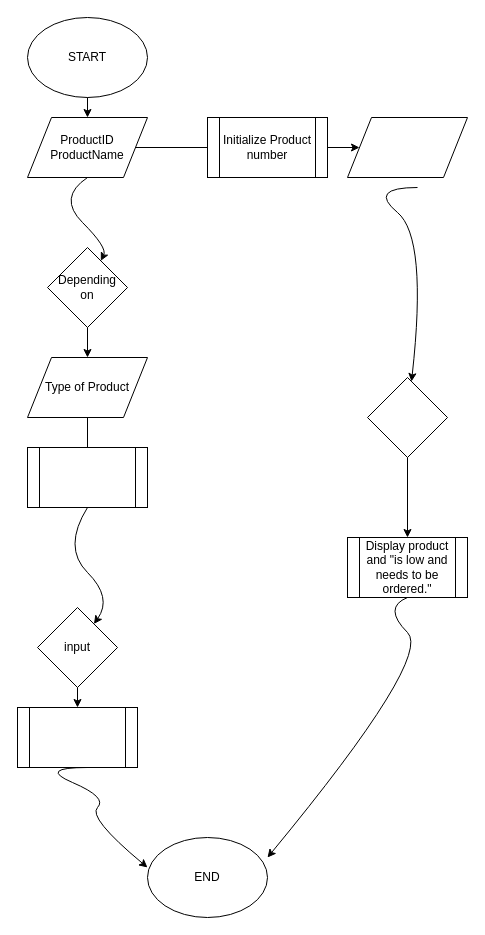
This 485x935 diagram has some shape labels left out. The shapes that lost their labels are listed below. From the top down, each one's centre as x and y in pixels, then its label:
(407,147): Check stock
(407,417): If Product=0
(87,477): Product Count
(77,737): Sales for the day
